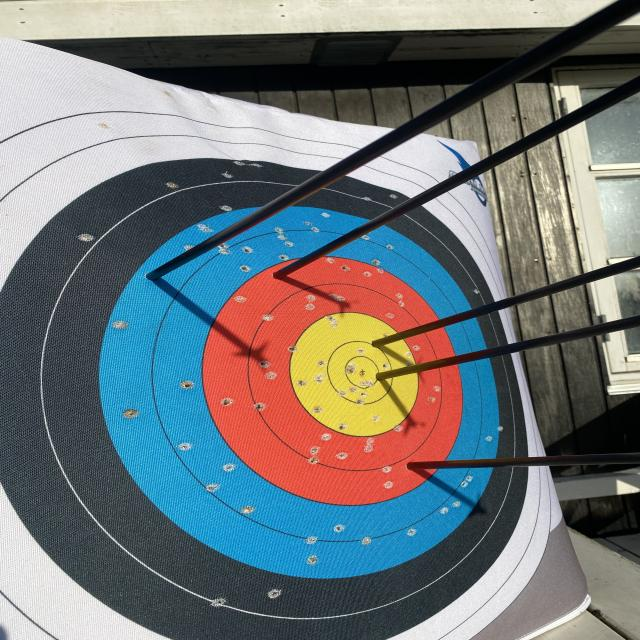Arrow_Blue: (132, 257, 180, 297)
Arrow_Red: (264, 254, 304, 291), (392, 453, 441, 475)
Arrow_Yellow: (367, 364, 402, 394), (364, 326, 385, 356)
